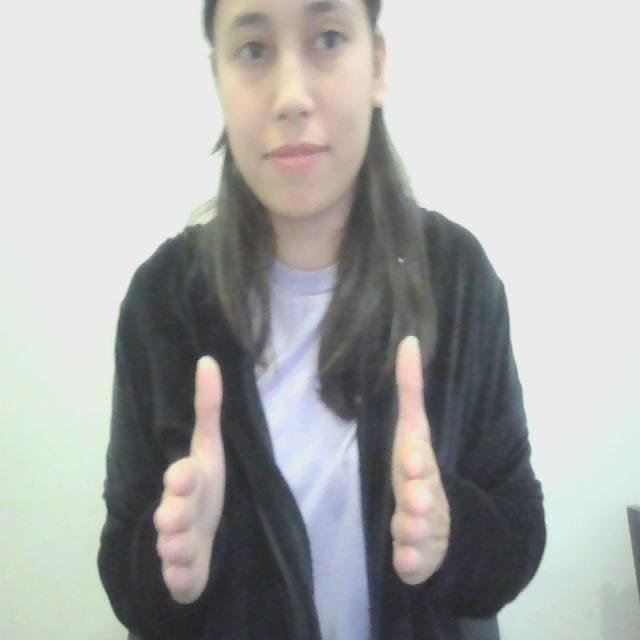Nasil: (154, 334, 453, 602)
